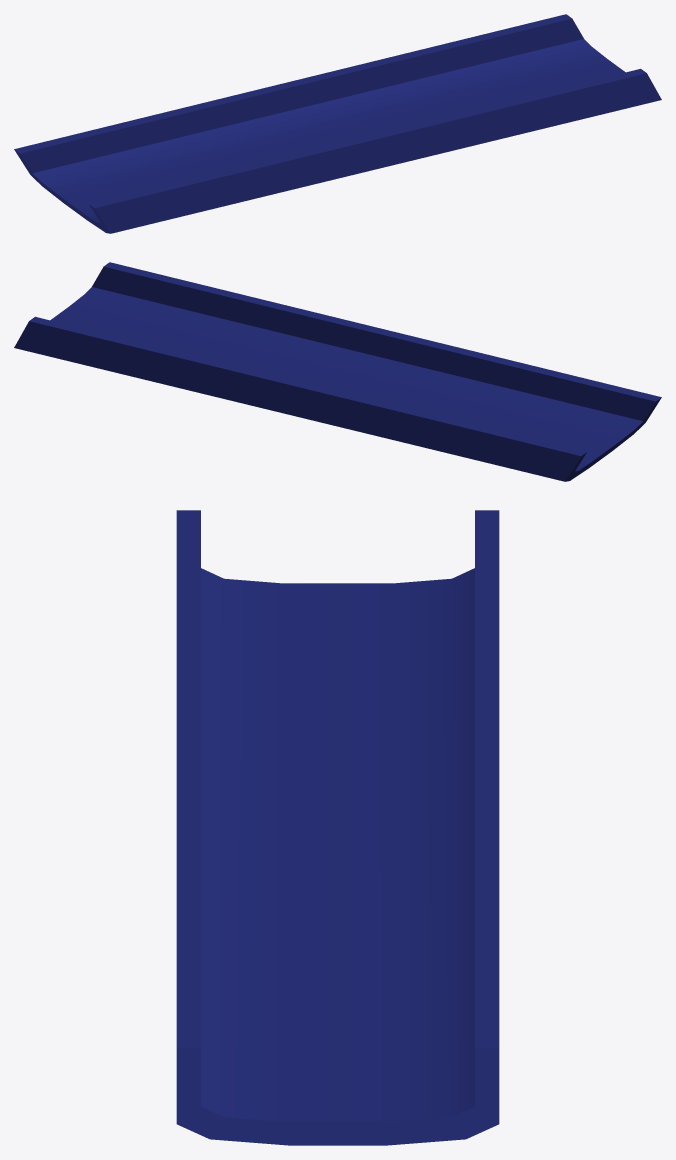
The model's file is Playground_Slide_FBX.fbx.
3 views of the same model, one above another, from view 1: azimuth 30°, elevation 25°; view 2: azimuth 150°, elevation 25°; view 3: azimuth 270°, elevation 25° (orthographic). The views are drawn at different scales.
Parts seen in each view (by area): view 1: slide; view 2: slide; view 3: slide.
Boxes of the visible parts, x1=… form: slide: x1=14, y1=14, x2=661, y2=233; slide: x1=14, y1=262, x2=661, y2=481; slide: x1=176, y1=510, x2=499, y2=1145.
Size of the model in its own units: 2940 by 192 by 718.
